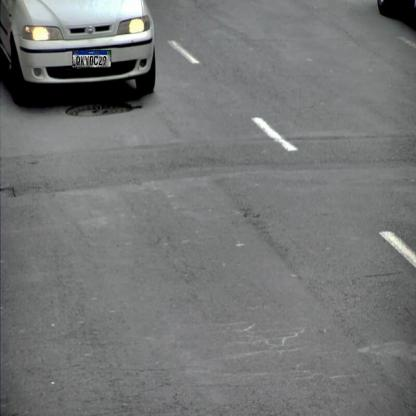PlacaM: (72, 50, 112, 68)
